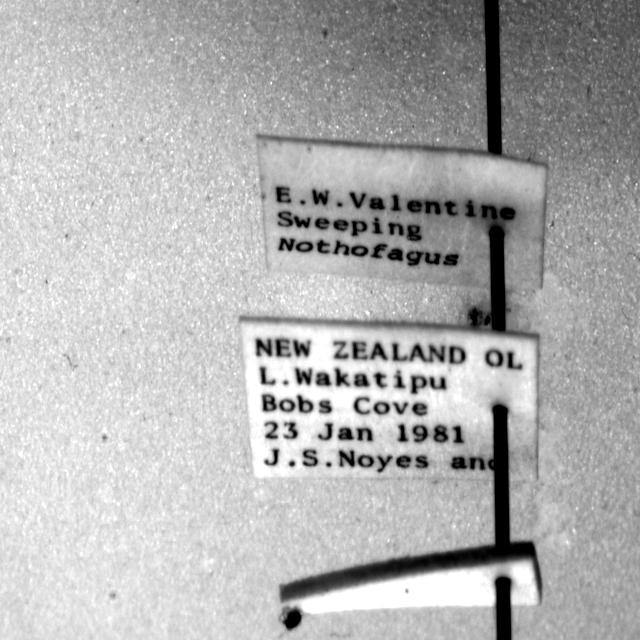typed_label: (241, 319, 539, 480), (258, 135, 546, 289)
